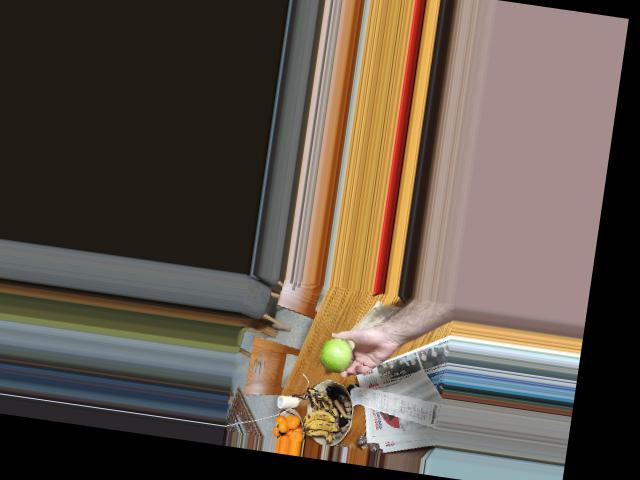apple: (316, 337, 355, 374)
